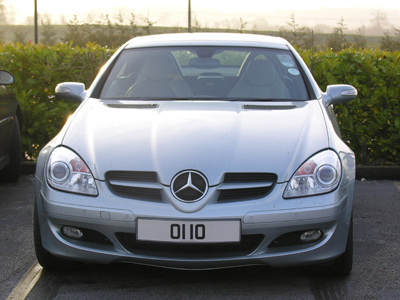licencePlate: (136, 217, 239, 243)
